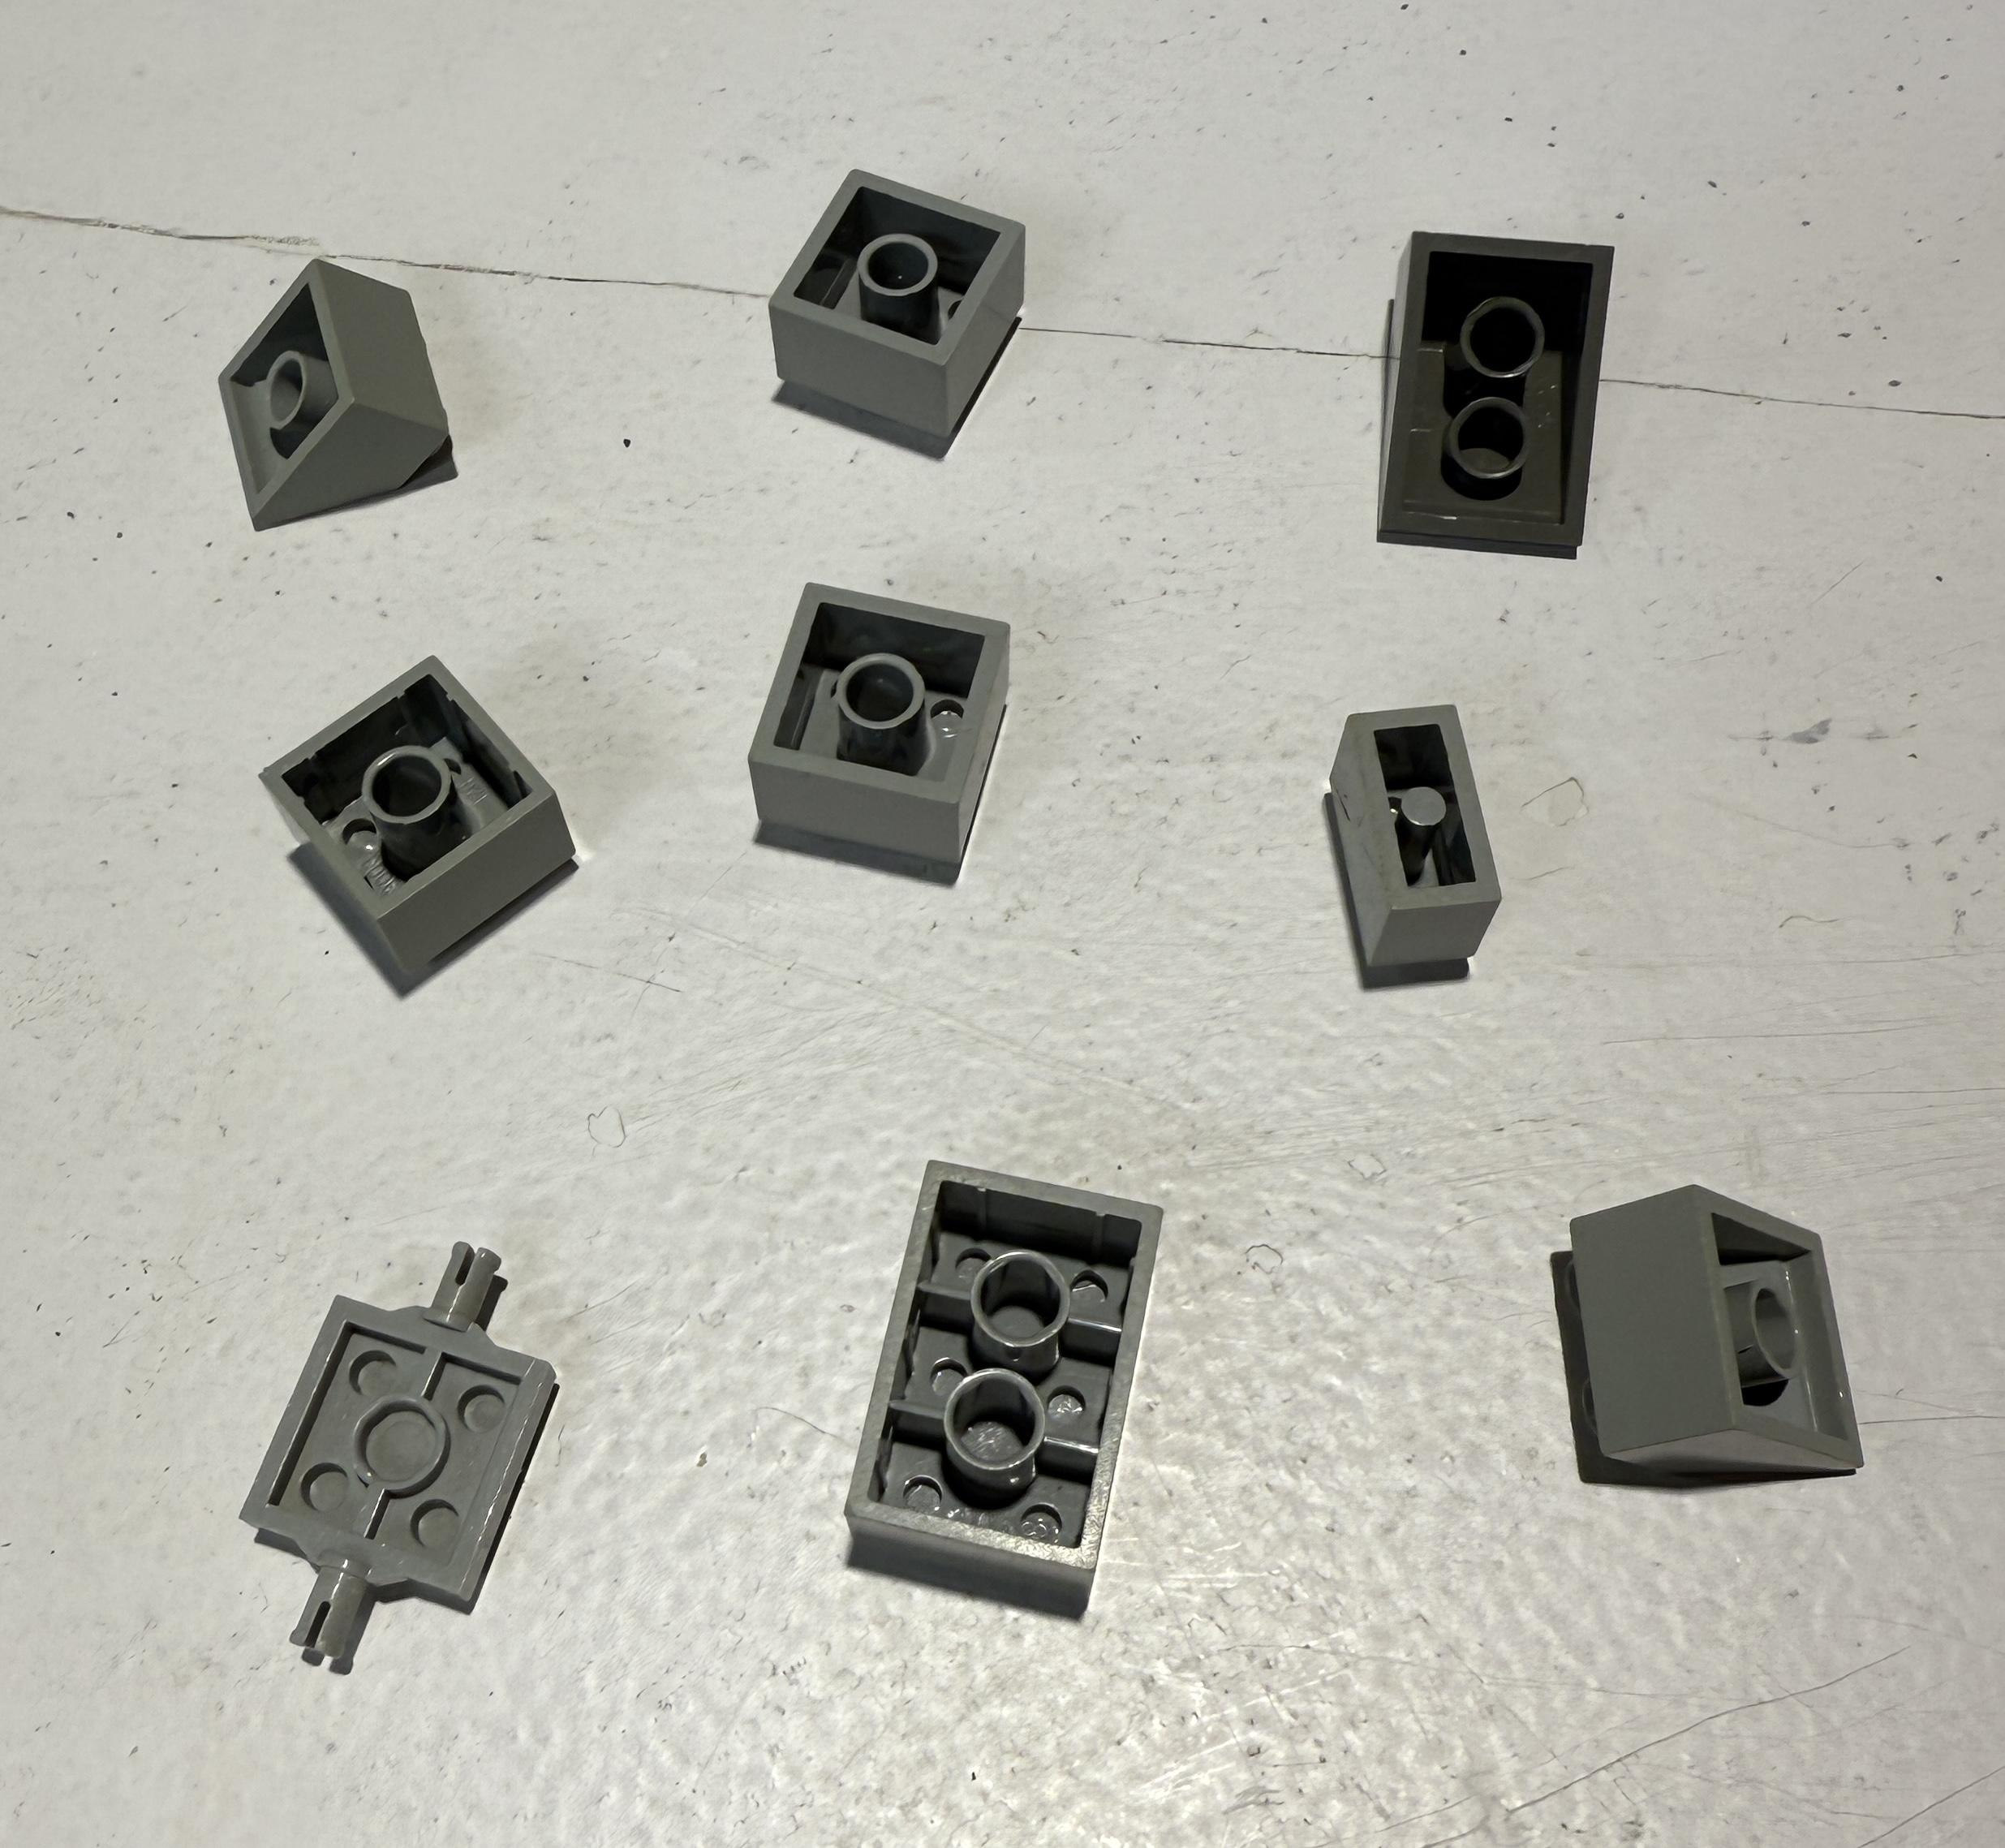Special_02: (1537, 1153, 1895, 1548), (197, 204, 510, 569)
brick_1x2: (1287, 669, 1547, 1036)
brick_2x2: (255, 620, 594, 1017), (706, 561, 1036, 910), (749, 140, 1051, 465)
brick_2x3: (824, 1113, 1202, 1619)
